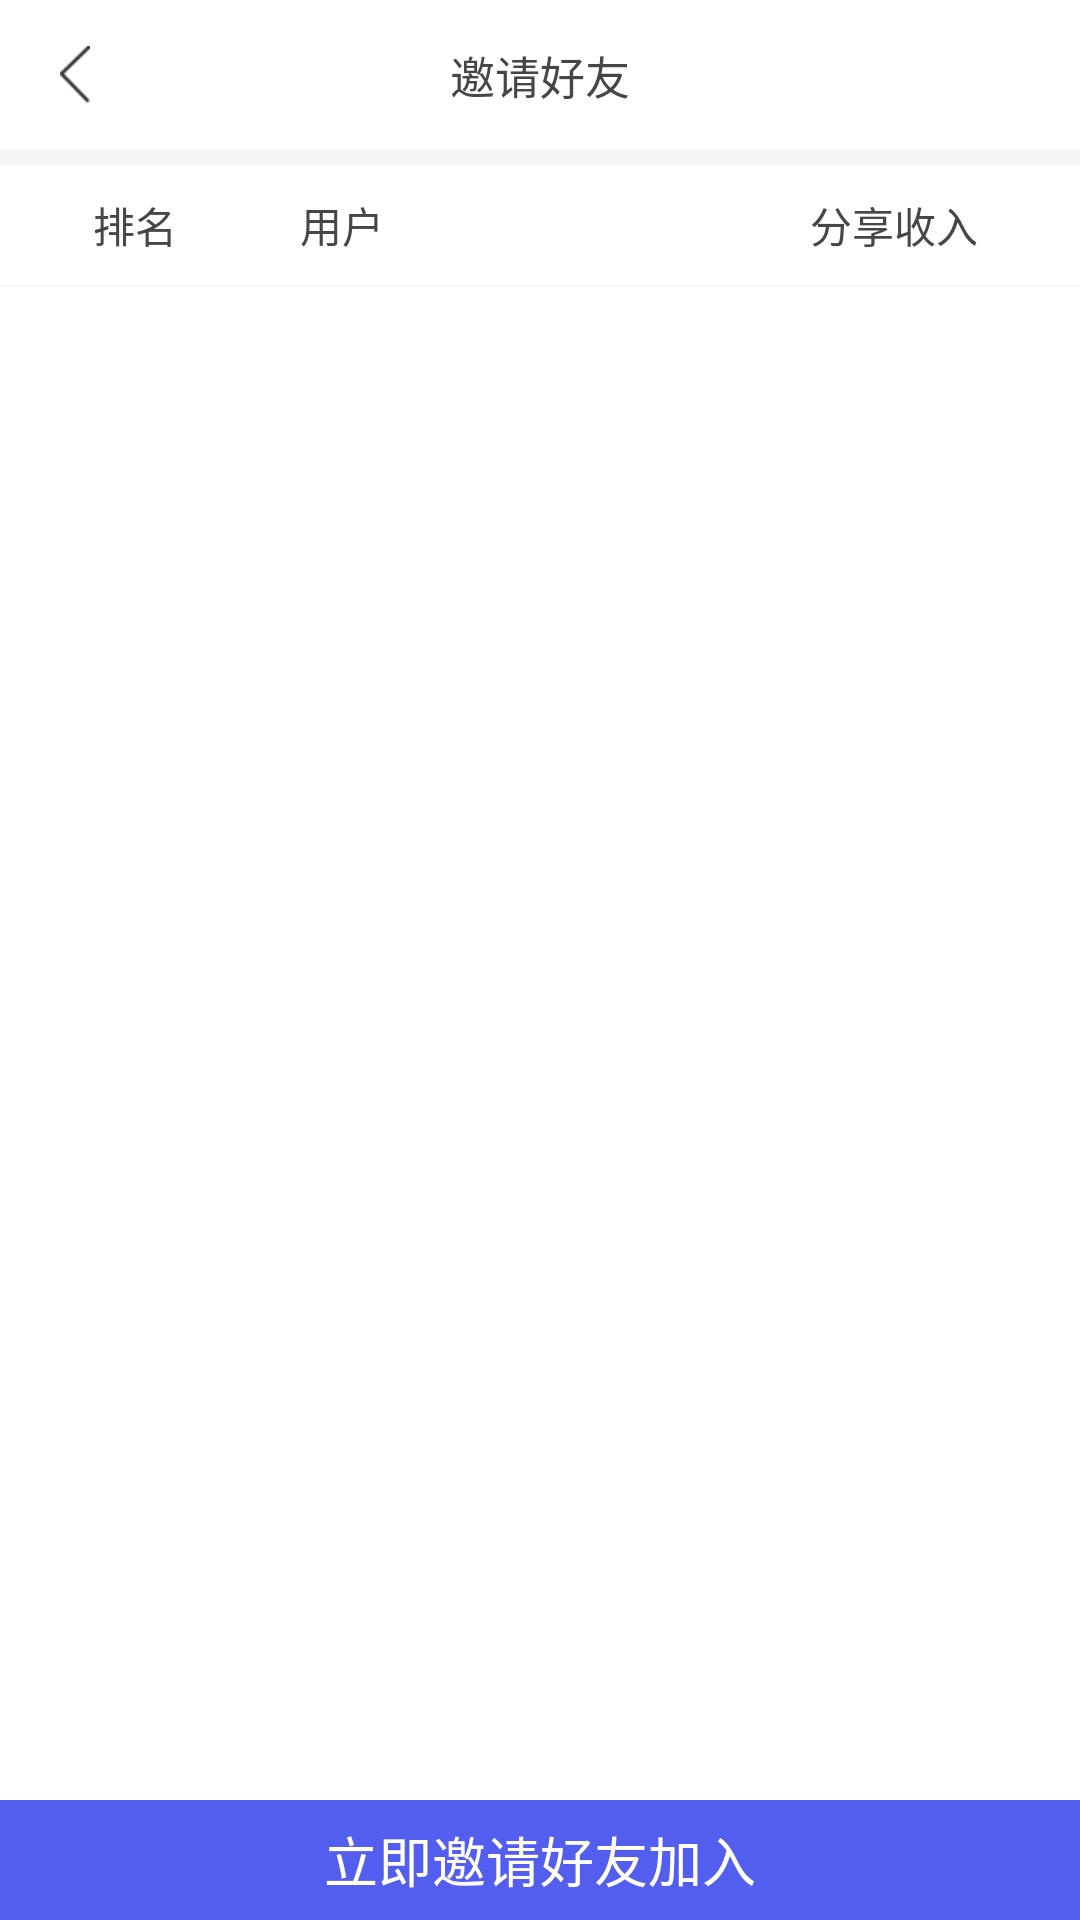

Locate icon controls on the screen. Image size 1080 x 1920, boxes as bbox=[x1, y1, x2, y2].
back: bbox=[60, 46, 90, 103]
